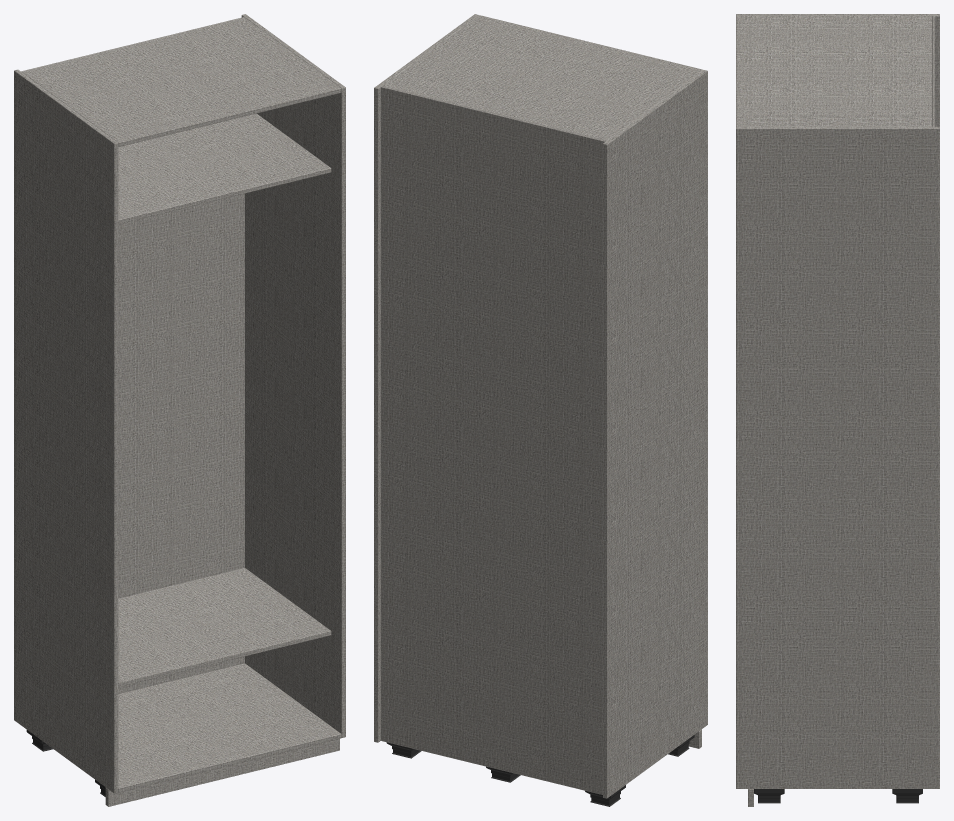
Rendered from cbib12152.gltf.
3 renders of one model, left to right at view 1: azimuth 30°, elevation 25°; view 2: azimuth 150°, elevation 25°; view 3: azimuth 270°, elevation 25°, orthographic.
Visible parts, largest first — view 1: CBIB12152; view 2: CBIB12152; view 3: CBIB12152.
Part boxes in pixels (left/top/right/bottom): CBIB12152: left=14, top=14, right=345, bottom=806; CBIB12152: left=374, top=14, right=707, bottom=806; CBIB12152: left=736, top=14, right=939, bottom=806.
Size of the model in its own units: 0.8 by 2.2 by 0.6.
Materials: 3 (2 with a texture image).
